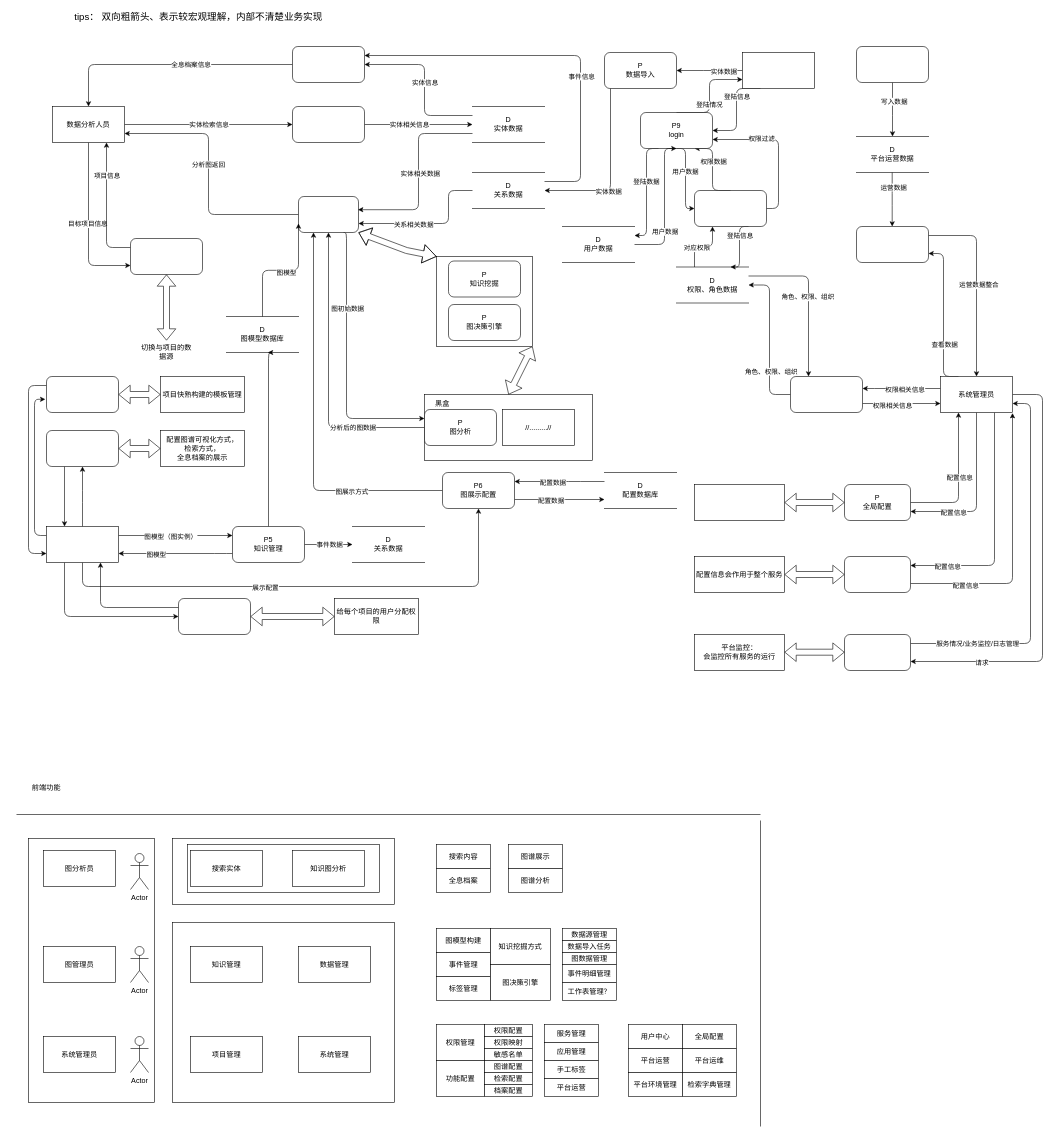
This 1058x1138 diagram has some shape labels left out. Here are the shapes that lost their labels. From the top down, the box of each, then its label:
(292, 46, 364, 82): P1 实体查看功能
(742, 52, 814, 88): 用户
(856, 46, 928, 82): P 记录用户行为的程序
(292, 106, 364, 142): P2 搜索功能
(298, 196, 358, 232): P3 图谱分析功能
(694, 190, 766, 226): P8 用户权限过滤
(130, 238, 202, 274): P4 项目管理
(856, 226, 928, 262): P10 平台运营数据查看
(46, 376, 118, 412): P 应用管理
(790, 376, 862, 412): P7 角色管理管理
(46, 430, 118, 466): P 功能配置
(694, 484, 784, 520): 图分析默认展开方式配置 红名单管理 菜单管理
(46, 526, 118, 562): 图管理人员
(844, 556, 910, 592): P 平台环境配置
(178, 598, 250, 634): P 用户管理
(844, 634, 910, 670): P 平台运维
